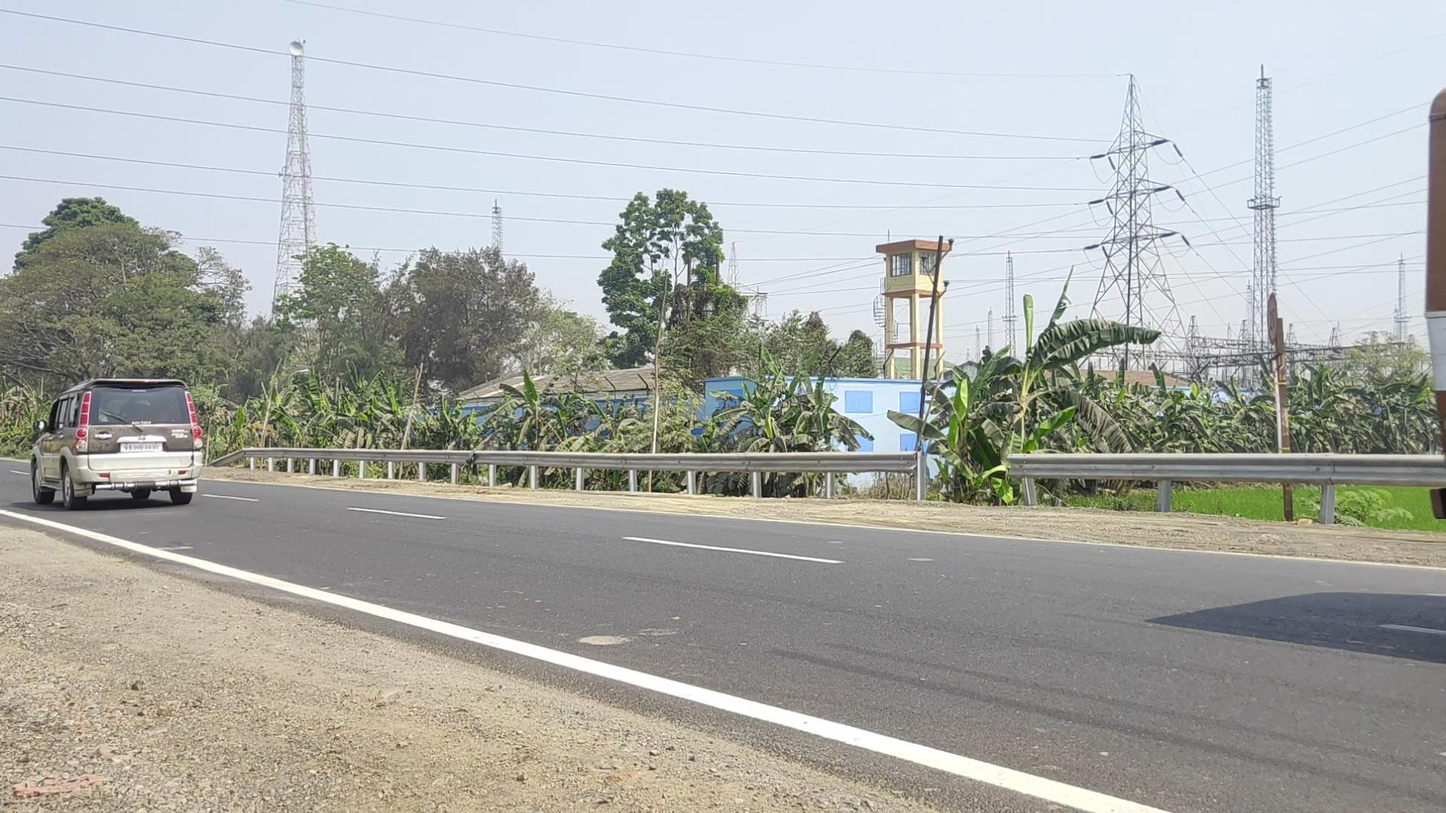car: (30, 378, 203, 510)
